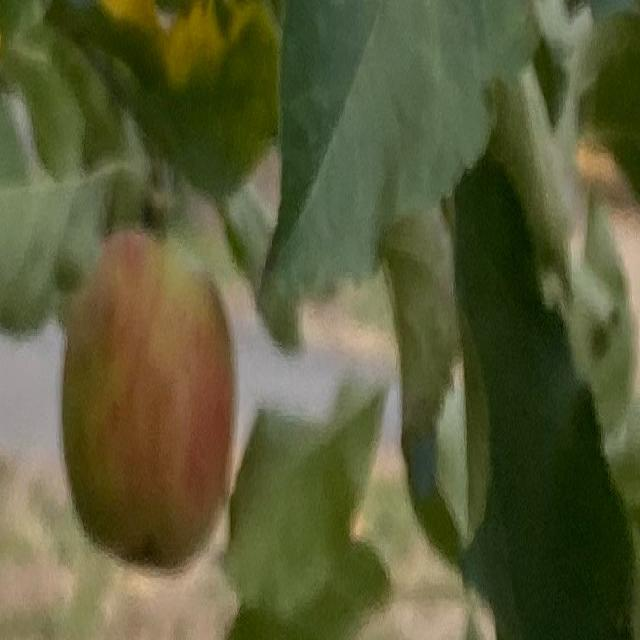Apples: (64, 237, 239, 567)
